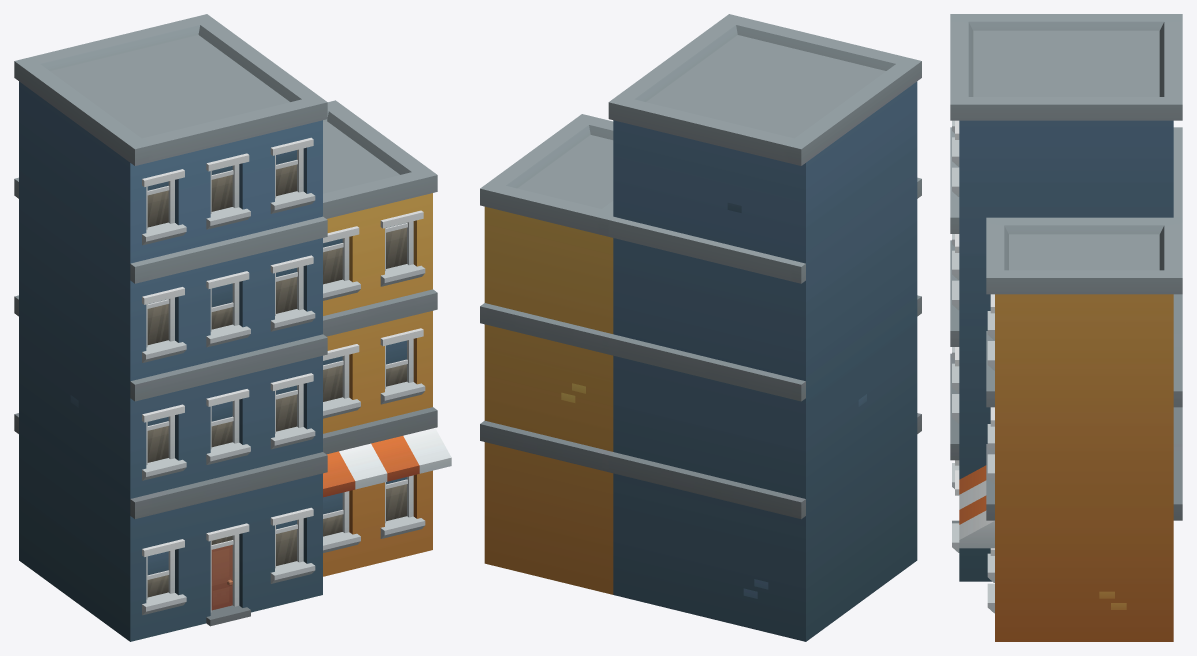
Rendered from building-tower.glb.
3 views of the same model, side by side, from view 1: azimuth 30°, elevation 25°; view 2: azimuth 150°, elevation 25°; view 3: azimuth 270°, elevation 25° (orthographic). The views are drawn at different scales.
Parts seen in each view (by area): view 1: building_H_withoutBase; view 2: building_H_withoutBase; view 3: building_H_withoutBase.
Part boxes in pixels (bbox=[...]): building_H_withoutBase: bbox=[14, 14, 451, 641]; building_H_withoutBase: bbox=[480, 14, 921, 641]; building_H_withoutBase: bbox=[950, 14, 1182, 641].
Size of the model in its own units: 17.01 by 25 by 11.02.
1 material, 1 textured.
